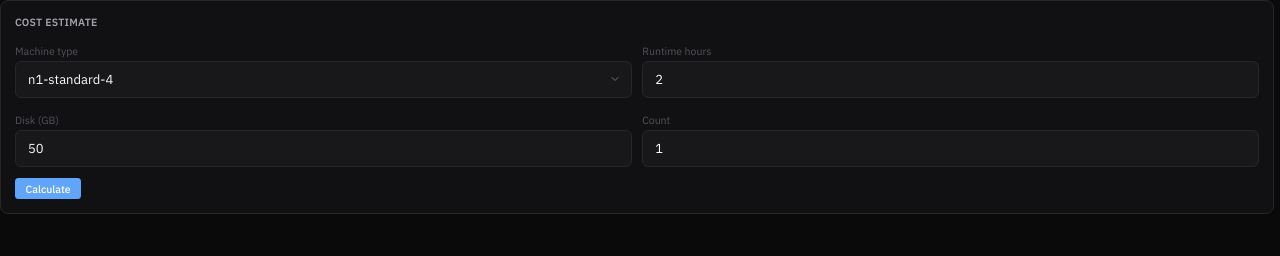
Test: VmCostEstimatePanel › shows error state when fetch fails
The image size is (1280, 256).
Click the button with test id "calculate-cost-btn" at [48, 188], box [15, 178, 81, 199]
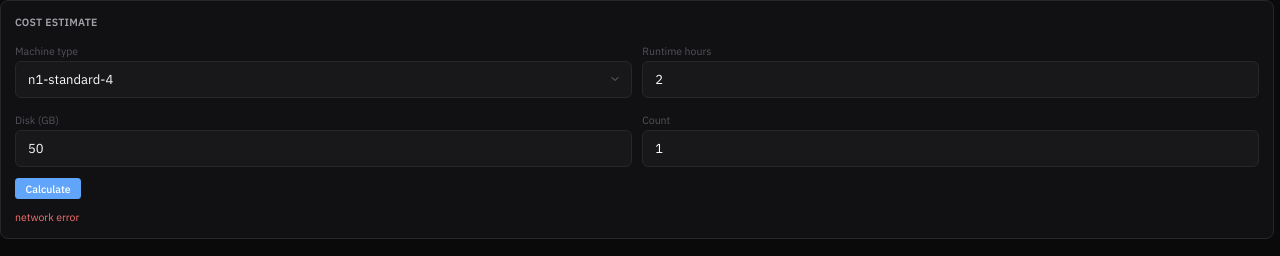
Now the text "network error" is shown, box [15, 210, 79, 224]
